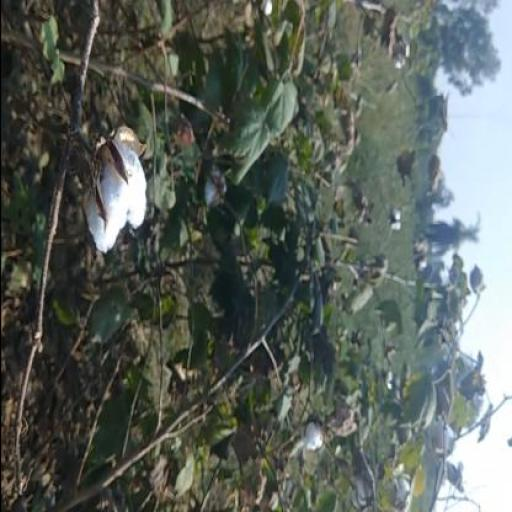cotton_ready: (46, 88, 152, 279)
